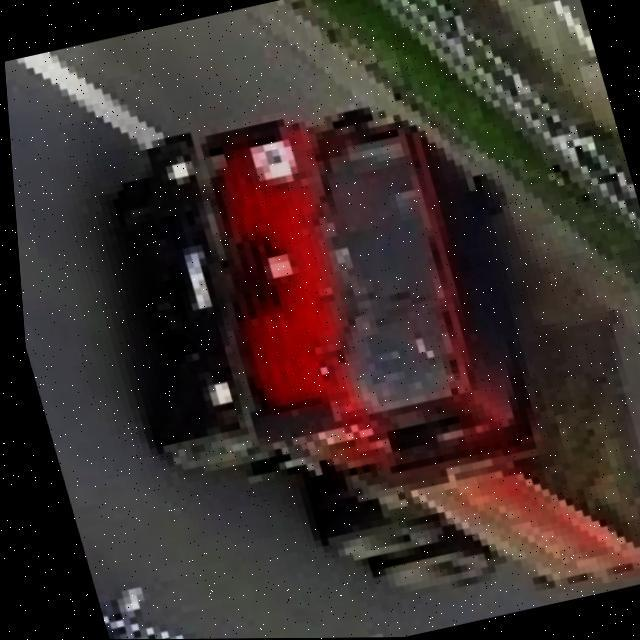truck: (61, 66, 640, 640)
